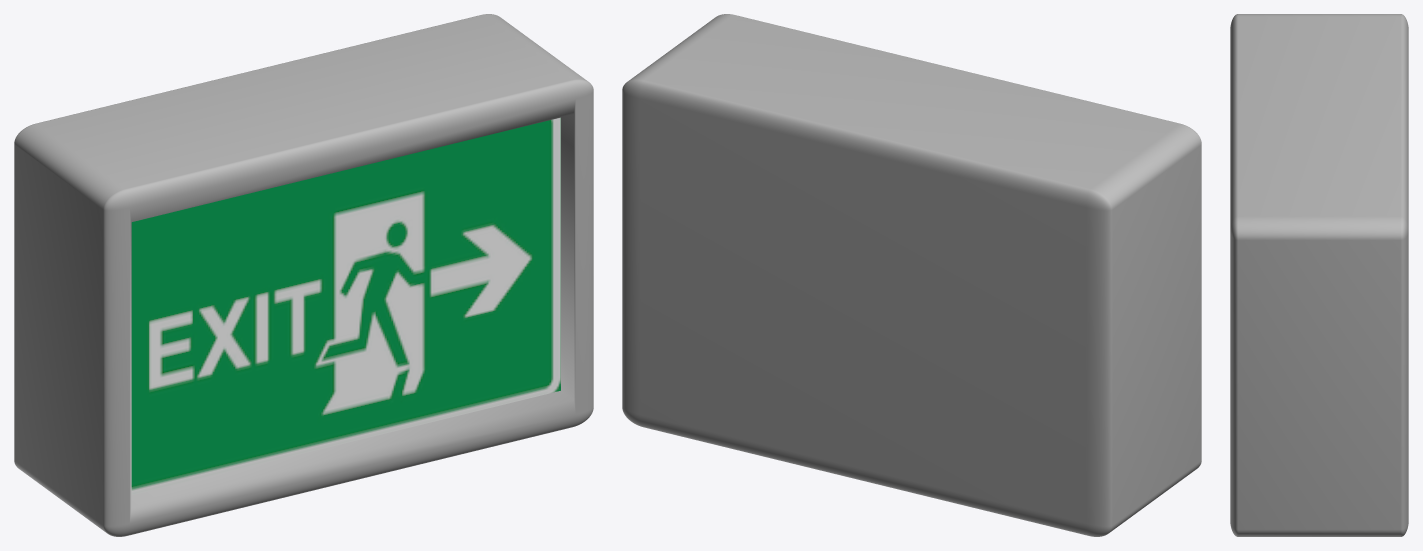
Rendered from exit_sign_3d_model_free.glb.
3 renders of one model, left to right at view 1: azimuth 30°, elevation 25°; view 2: azimuth 150°, elevation 25°; view 3: azimuth 270°, elevation 25°, orthographic. The views are drawn at different scales.
Visible parts, largest first — view 1: Exit; view 2: Exit; view 3: Exit.
Part boxes in pixels (<box>): Exit: <box>14,14,593,536</box>; Exit: <box>622,14,1201,536</box>; Exit: <box>1230,14,1408,536</box>.
Bounding box in the file's own units: 2.91 × 1.97 × 1.
Materials: 2 (1 with a texture image).
